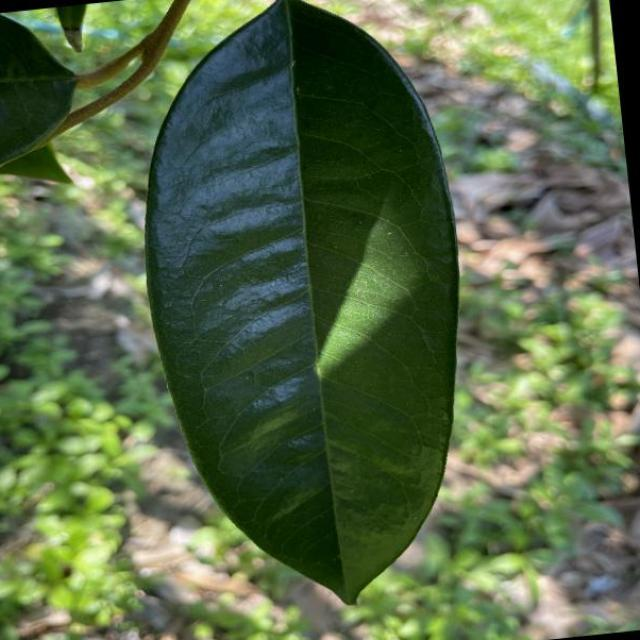No Disease: (113, 0, 504, 637)
